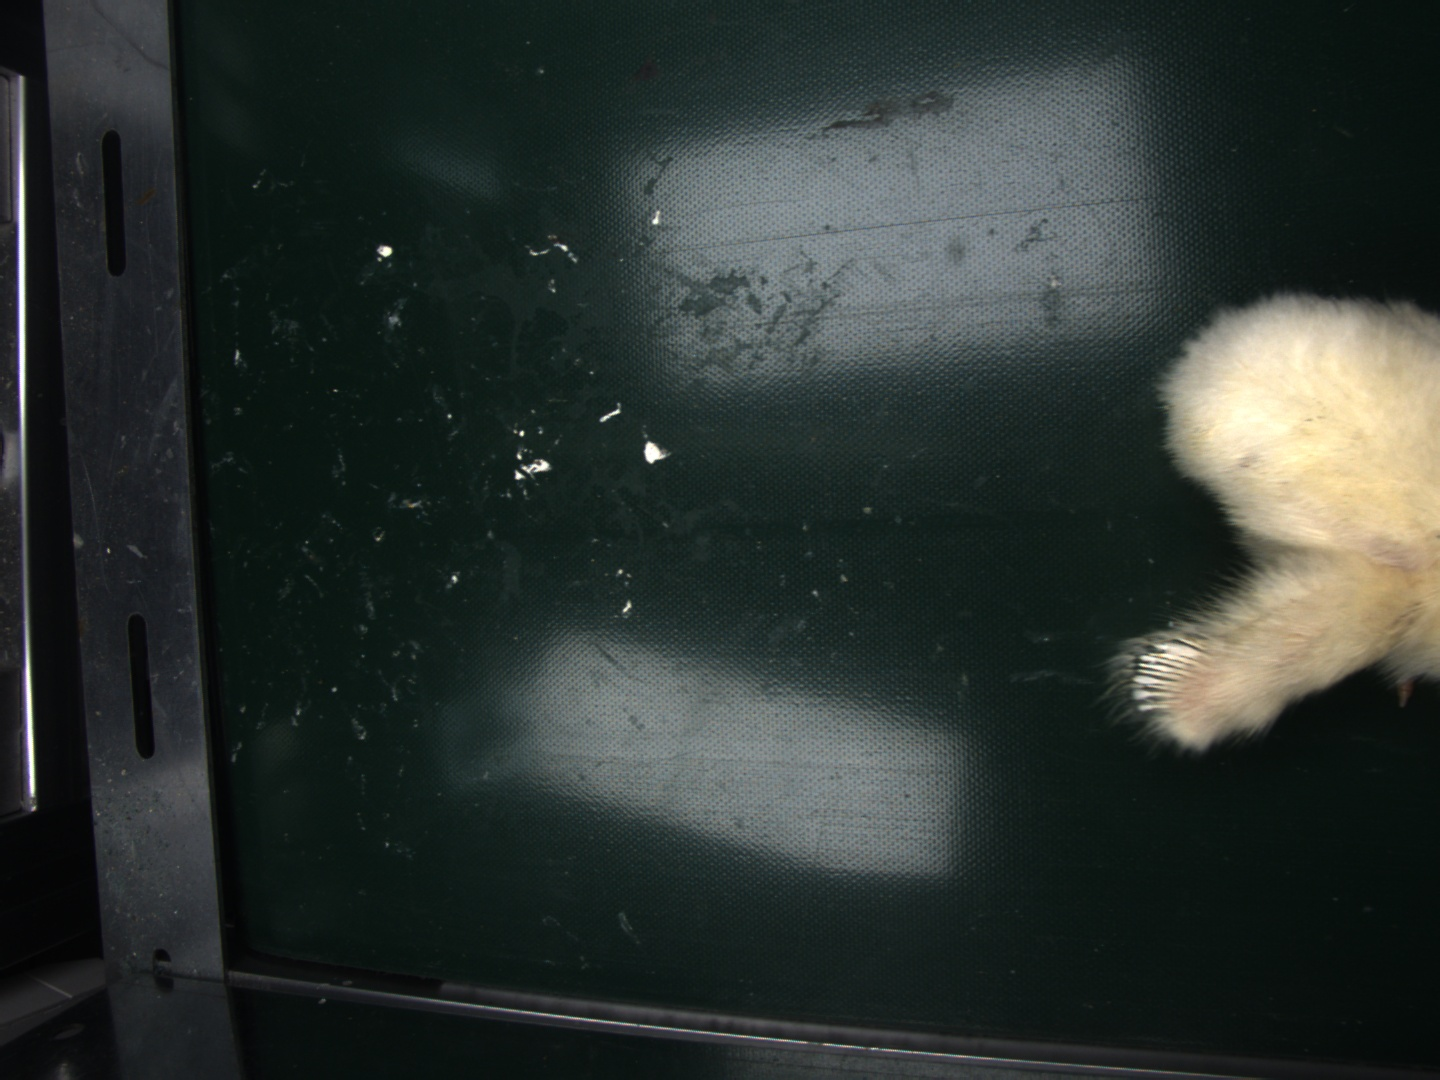male: (1129, 638, 1208, 720)
